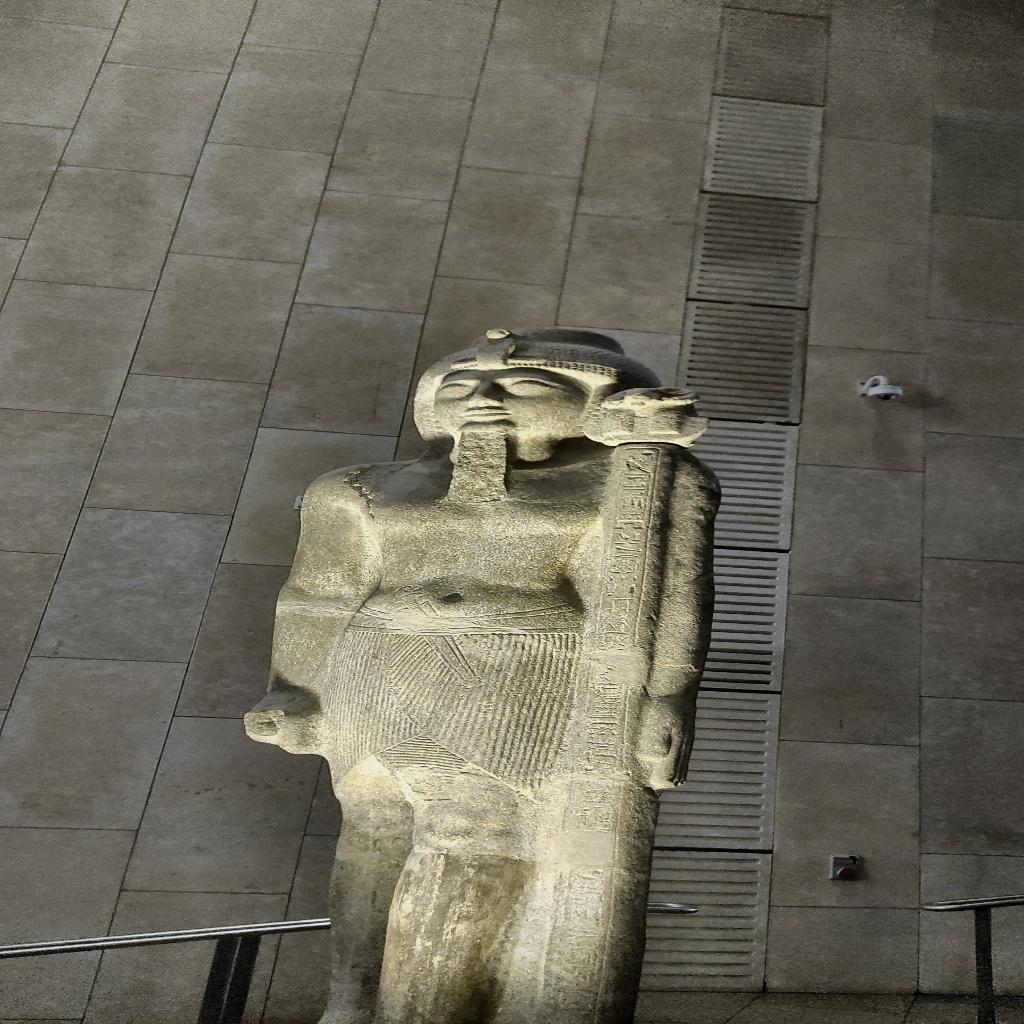Statue of Ramesses III as standard Bearer: (238, 324, 730, 1022)
